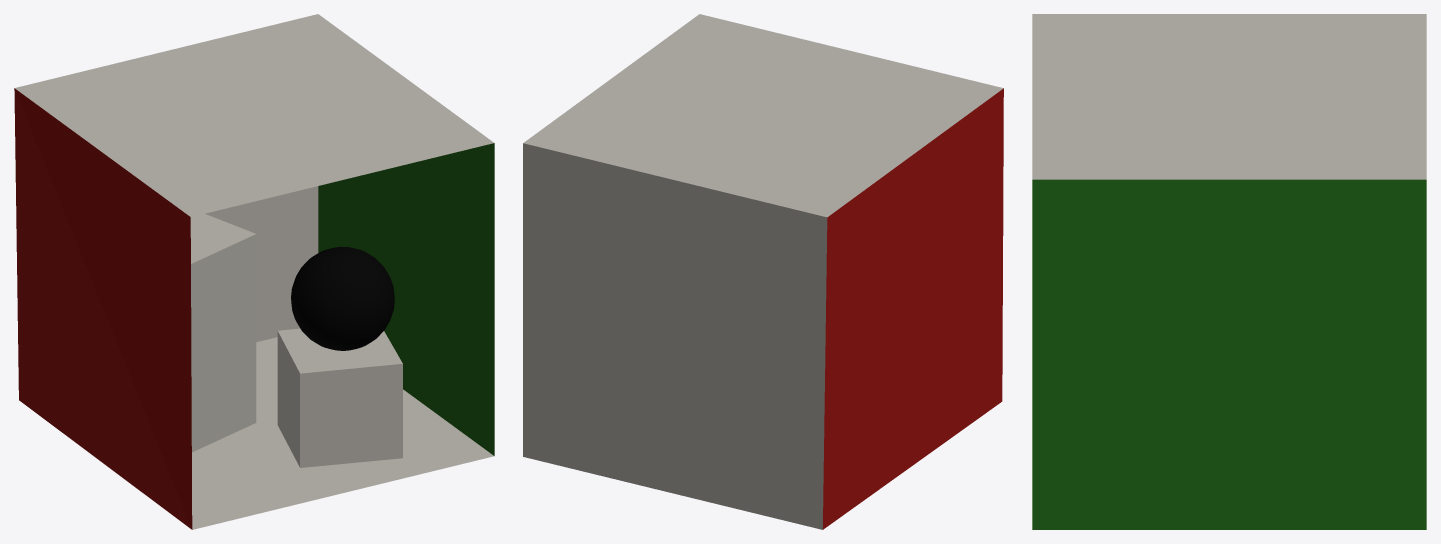
Rendered from spectral_box.obj.
3 views of the same model, side by side, from view 1: azimuth 30°, elevation 25°; view 2: azimuth 150°, elevation 25°; view 3: azimuth 270°, elevation 25° (orthographic). The views are drawn at different scales.
Visible parts, largest first — view 1: cornell_box, Sphere; view 2: cornell_box; view 3: cornell_box.
Part boxes in pixels (x1,y1,x2,y2): cornell_box: (14,14,494,529); Sphere: (291,247,394,350); cornell_box: (523,14,1003,529); cornell_box: (1032,14,1426,529).
Bounding box in the file's own units: 2.02 × 1.99 × 2.03.
